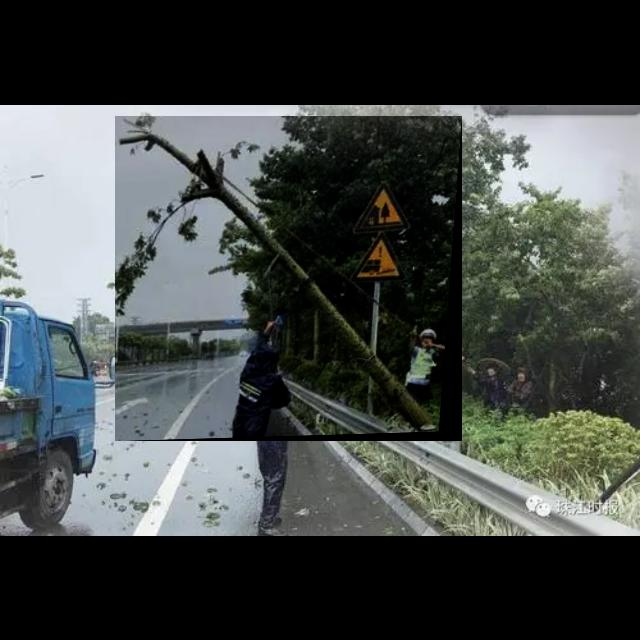Fallen Tree: (115, 116, 463, 442)
